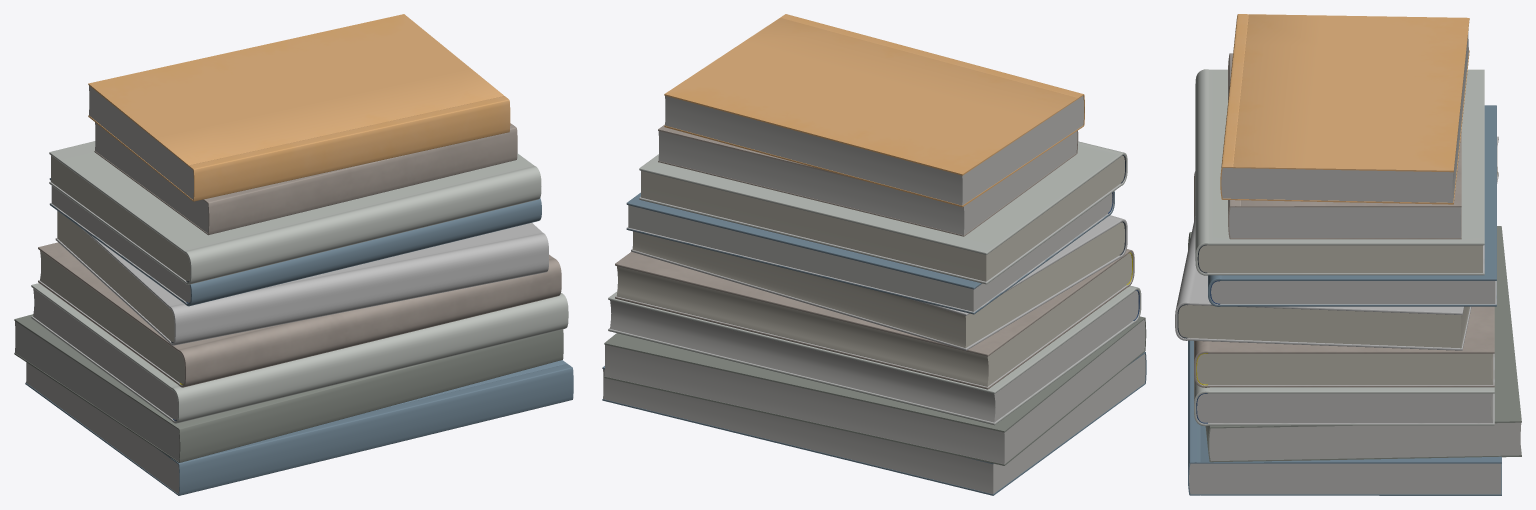
File: books01.obj
The picture shows the model from 3 angles, left to right: view 1: azimuth 30°, elevation 25°; view 2: azimuth 150°, elevation 25°; view 3: azimuth 270°, elevation 25°; orthographic projection. The views are drawn at different scales.
Visible parts, largest first — view 1: books01; view 2: books01; view 3: books01.
Part boxes in pixels (<box>): books01: <box>14,14,573,495</box>; books01: <box>602,14,1146,495</box>; books01: <box>1175,14,1521,495</box>.
Bounding box in the file's own units: 23.71 × 16.83 × 17.28.
1 material, 1 textured.
